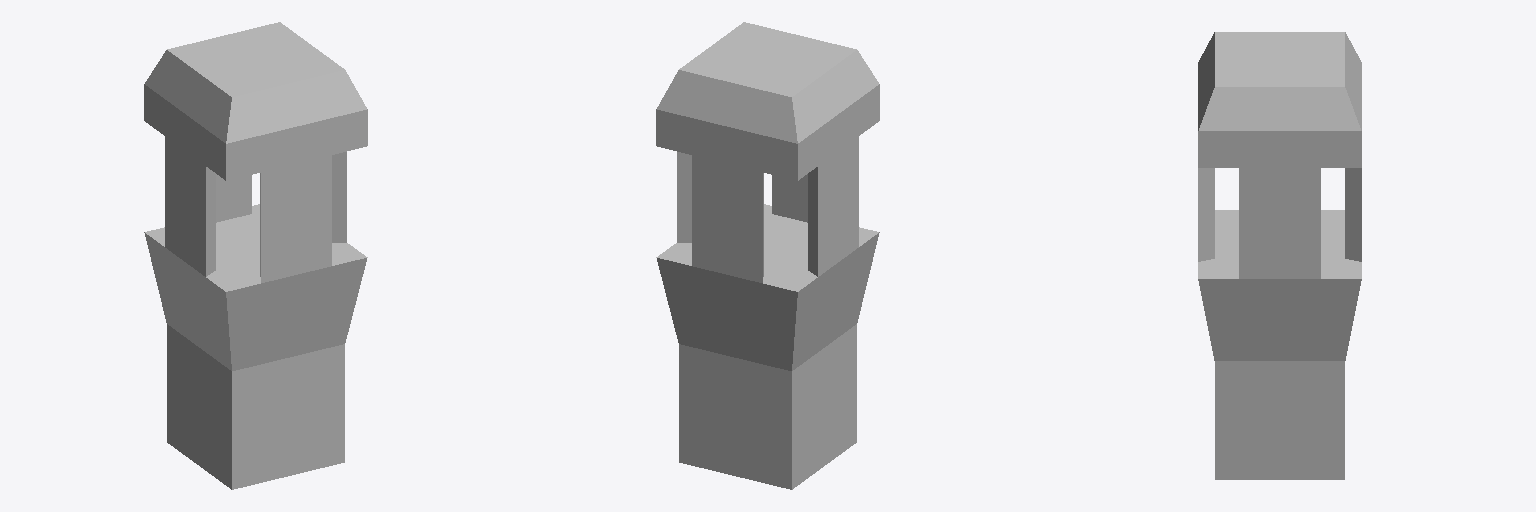
The model's file is screwtop.obj.
3 views of the same model, side by side, from view 1: azimuth 30°, elevation 25°; view 2: azimuth 150°, elevation 25°; view 3: azimuth 270°, elevation 25° (orthographic).
Visible parts, largest first — view 1: Cube; view 2: Cube; view 3: Cube.
Part boxes in pixels (left/top/right/bottom): Cube: left=144, top=22, right=367, bottom=489; Cube: left=656, top=22, right=879, bottom=489; Cube: left=1198, top=32, right=1361, bottom=479.
Bounding box in the file's own units: 0.2 × 0.53 × 0.2.